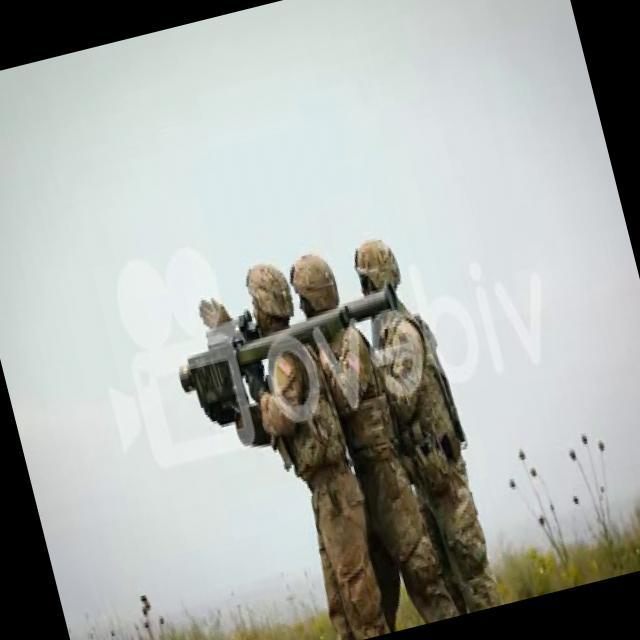rocket: (171, 280, 407, 392)
